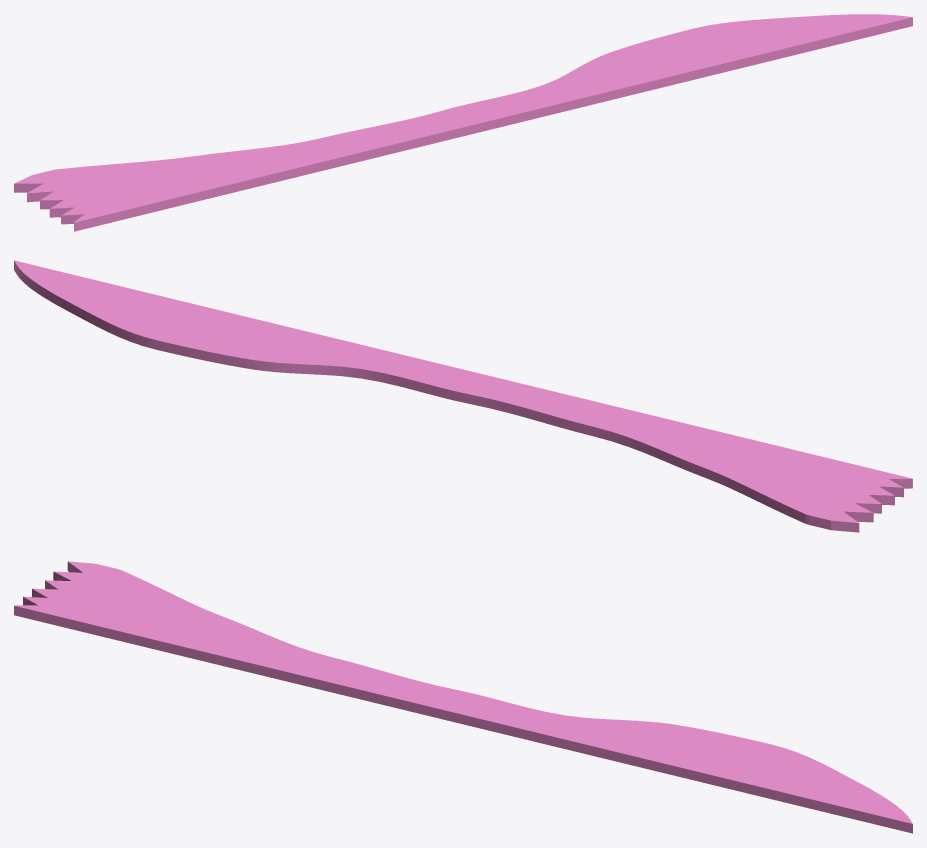
File: Tool1.FBX
The picture shows the model from 3 angles, top to bottom: view 1: azimuth 30°, elevation 25°; view 2: azimuth 150°, elevation 25°; view 3: azimuth 330°, elevation 25°; orthographic projection. The views are drawn at different scales.
Visible parts, largest first — view 1: Line02; view 2: Line02; view 3: Line02.
Boxes of the visible parts, x1,y1,x2,y2 form: Line02: (14,14,912,231); Line02: (14,260,912,532); Line02: (14,561,912,833).
Bounding box in the file's own units: 197 × 24.04 × 2.
